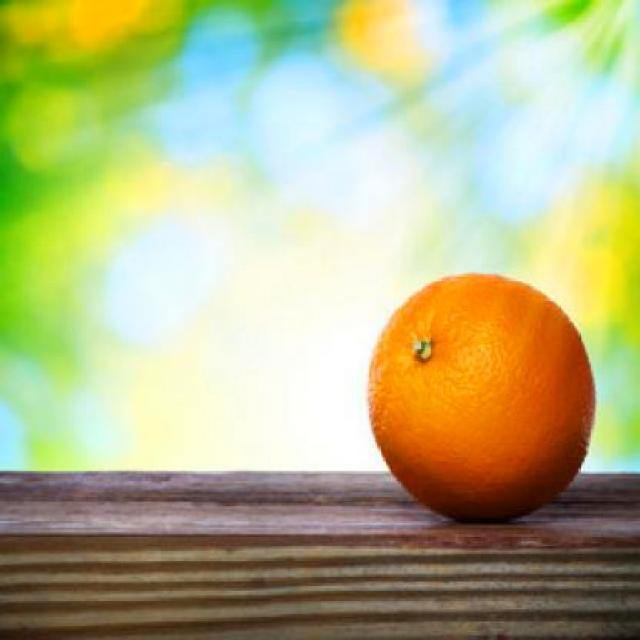Jeruk Sudah Matang: (370, 269, 596, 523)
